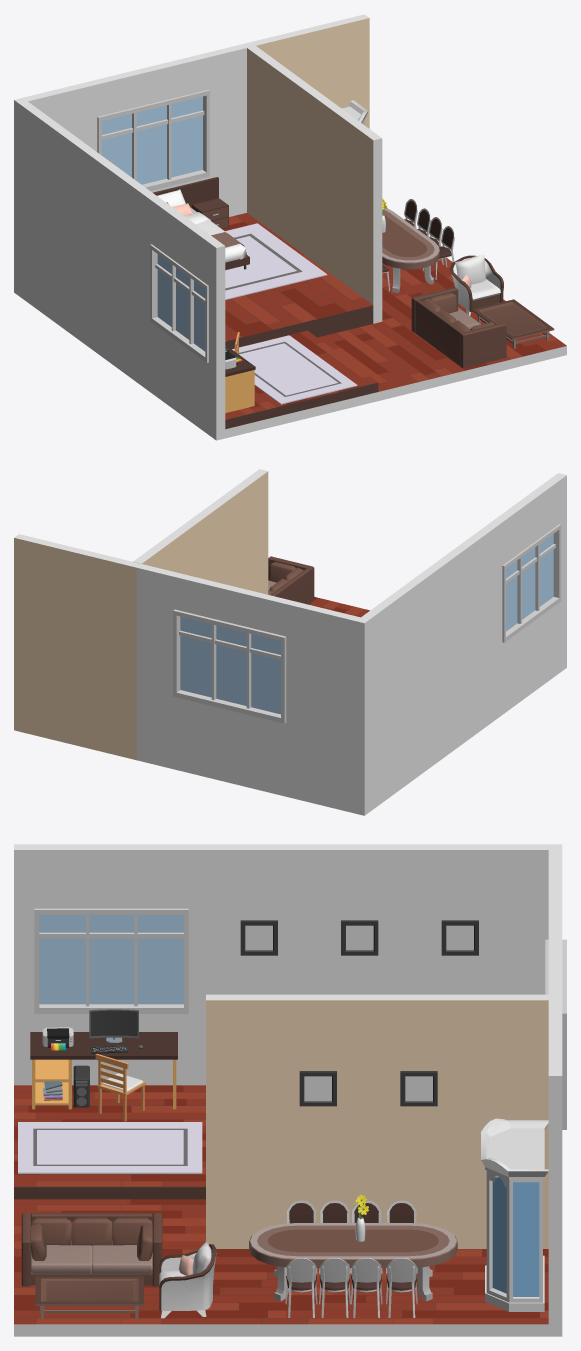
Rendered from room_13.glb.
3 views of the same model, one above another, from view 1: azimuth 30°, elevation 25°; view 2: azimuth 150°, elevation 25°; view 3: azimuth 270°, elevation 25° (orthographic). The views are drawn at different scales.
Parts seen in each view (by area): view 1: Walls_006.101, Walls_177.006, window_007.004, floor_001.037, Walls_177.007, floor_001.040, Walls_006.010, sofa_042.001, window_007.003, carpet_010.003, Walls_056.001, Walls_006.105 (+15 smaller); view 2: Walls_006.101, Walls_177.007, Walls_006.103, window_007.004, Walls_177.006, Walls_006.104, Walls_006.010, window_007.003, Walls_006.105, Walls_006.106, Walls_006.108, sofa_042.001 (+2 smaller); view 3: Walls_177.006, Walls_006.101, window_007.003, floor_001.037, closet_003.001, Walls_006.108, floor_001.035, carpet_010.003, Walls_056.001, sofa_042.001, kitchen_table_009.001, floor_001.039 (+27 smaller).
Boxes of the visible parts, box(x1,y1,x2,y2) form: Walls_006.101: box(14, 97, 161, 393); Walls_177.006: box(247, 45, 382, 323); window_007.004: box(97, 89, 209, 190); floor_001.037: box(325, 276, 566, 387); Walls_177.007: box(242, 14, 369, 128); floor_001.040: box(222, 213, 372, 341); Walls_006.010: box(203, 44, 246, 216); sofa_042.001: box(411, 287, 506, 367); window_007.003: box(150, 244, 208, 362); carpet_010.003: box(232, 335, 357, 404); Walls_056.001: box(225, 260, 566, 438); Walls_006.105: box(93, 54, 207, 116); Walls_006.101: box(355, 519, 503, 815); Walls_177.007: box(14, 534, 141, 760); Walls_006.103: box(285, 600, 360, 813); window_007.004: box(173, 609, 286, 723); Walls_177.006: box(133, 469, 268, 594); Walls_006.104: box(176, 697, 285, 796); Walls_006.010: box(136, 564, 180, 769); window_007.003: box(502, 524, 561, 642); Walls_006.105: box(176, 573, 290, 636); Walls_006.106: box(503, 603, 559, 713); Walls_006.108: box(495, 478, 559, 564); sofa_042.001: box(268, 556, 314, 604); Walls_177.006: box(206, 994, 548, 1248); Walls_006.101: box(185, 844, 562, 1085); window_007.003: box(34, 908, 188, 1013); floor_001.037: box(14, 1210, 285, 1324); closet_003.001: box(481, 1118, 548, 1311); Walls_006.108: box(34, 844, 185, 908); floor_001.035: box(286, 1249, 548, 1324); carpet_010.003: box(18, 1122, 202, 1173); Walls_056.001: box(14, 1200, 548, 1336); sofa_042.001: box(21, 1213, 162, 1286); kitchen_table_009.001: box(249, 1223, 457, 1301); floor_001.039: box(14, 1085, 205, 1186).
Bounding box in the file's own units: 8.04 × 4.2 × 8.07.
Materials: 1 (1 with a texture image).
